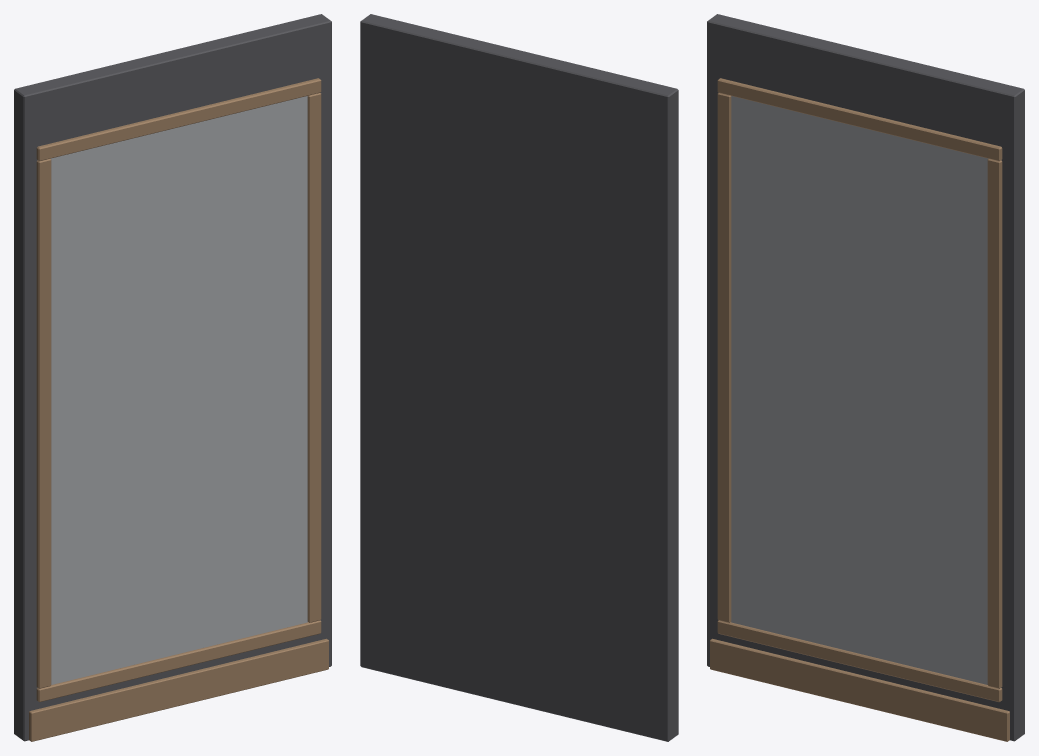
The model's file is room-wall.glb.
The picture shows the model from 3 angles, left to right: view 1: azimuth 30°, elevation 25°; view 2: azimuth 150°, elevation 25°; view 3: azimuth 330°, elevation 25°; orthographic projection.
Parts seen in each view (by area): view 1: acoustic-wall-panel; view 2: acoustic-wall-panel; view 3: acoustic-wall-panel.
Part boxes in pixels (x1,y1,x2,y2): acoustic-wall-panel: (14,14,331,741); acoustic-wall-panel: (360,14,678,741); acoustic-wall-panel: (707,14,1024,741).
Size of the model in its own units: 1.2 by 2.4 by 0.0855.
